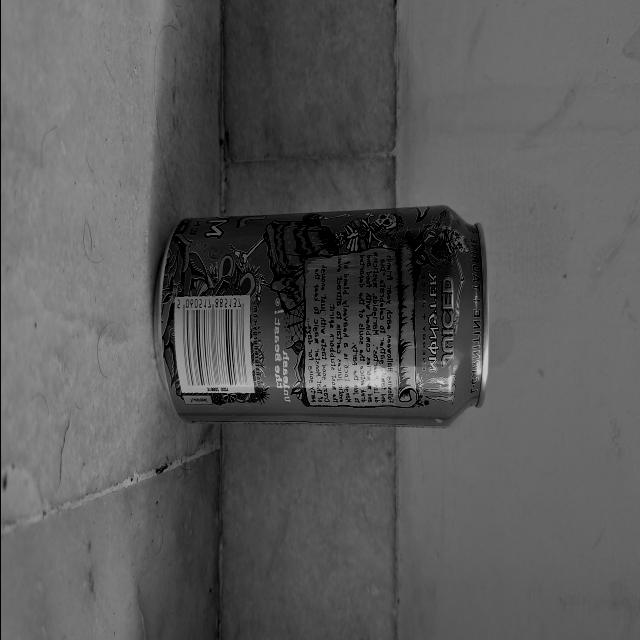Monster Mango Loco: (138, 170, 506, 464)
